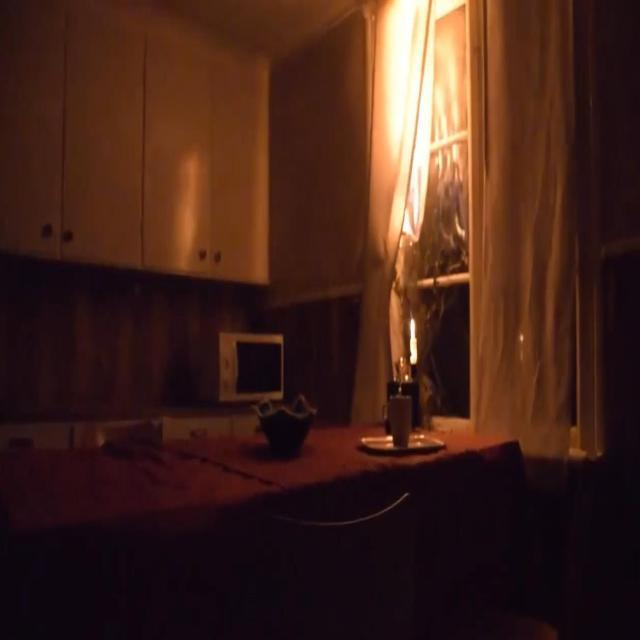smoke: (378, 0, 465, 241), (408, 316, 418, 366)
